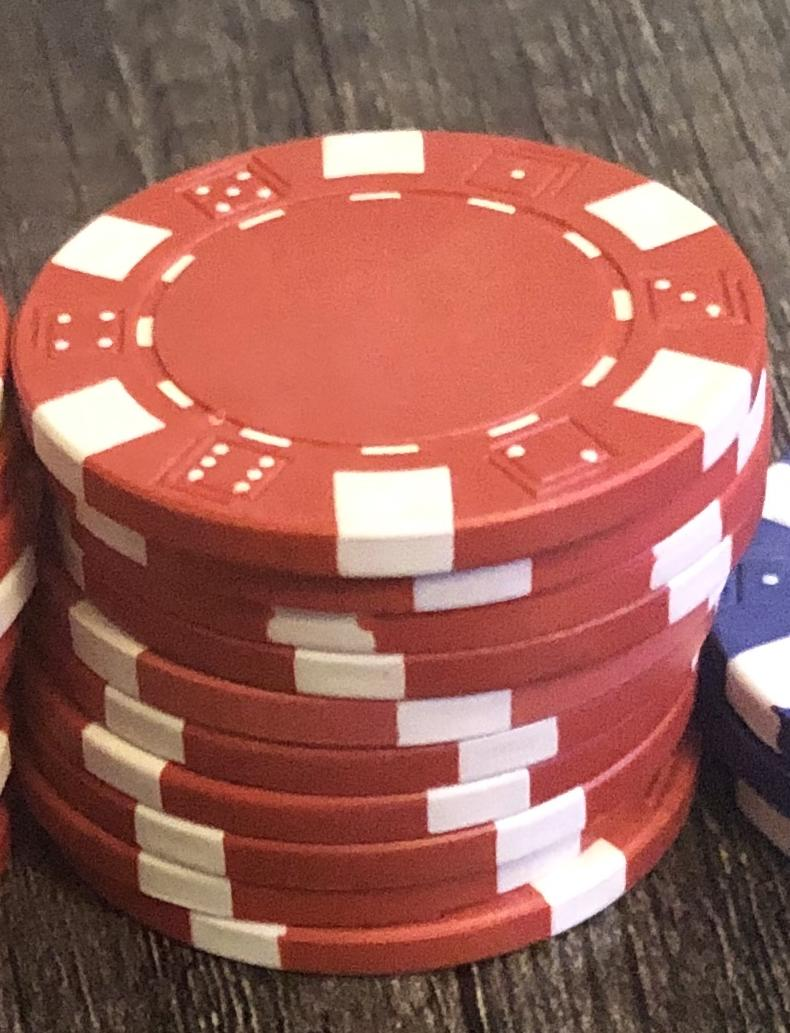Chip: (1, 1, 790, 1033)
